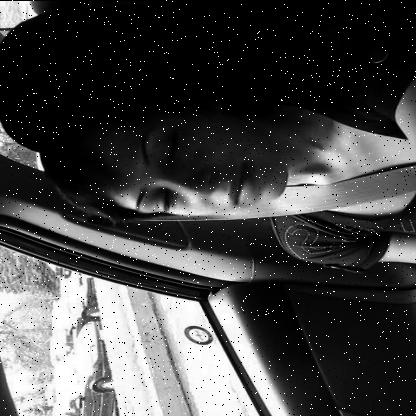seatbelt: (32, 71, 416, 236)
